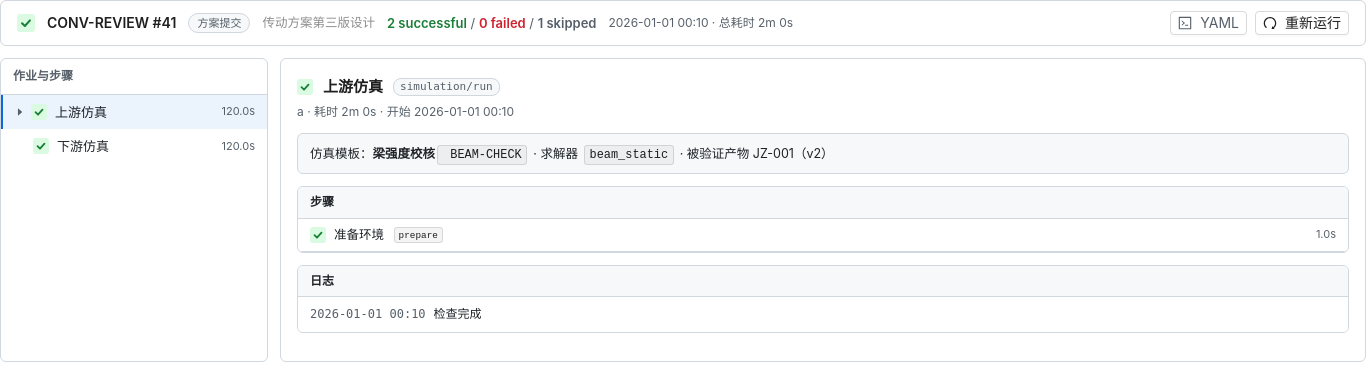
运行详情视图 › 点击步骤切换到步骤详情日志
// 详情面板步骤概要行可点击进入步骤日志
Click the text "准备环境": (359,235) left=334, top=225, right=384, bottom=245
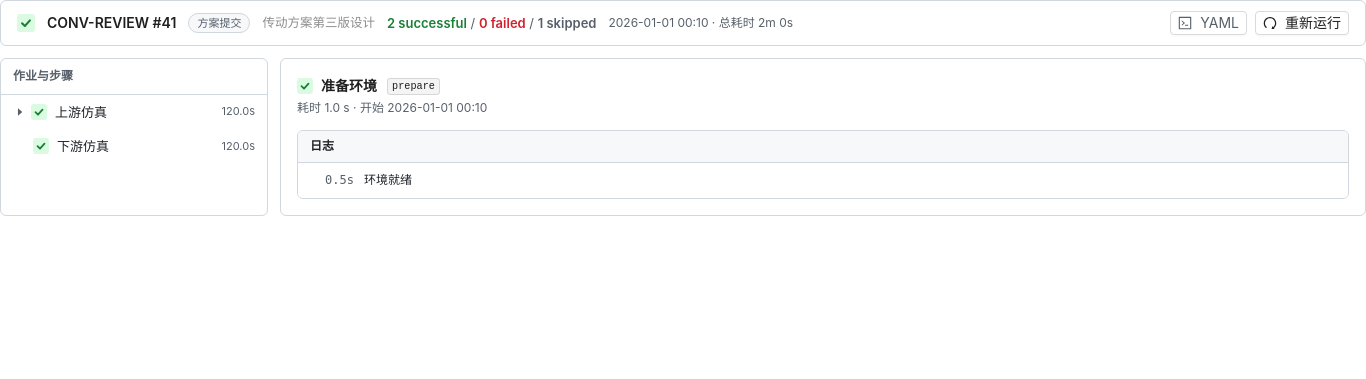
Check: the text "prepare" is shown, box left=387, top=78, right=440, bottom=94
Check: the text "环境就绪" is shown, box left=364, top=173, right=412, bottom=187
